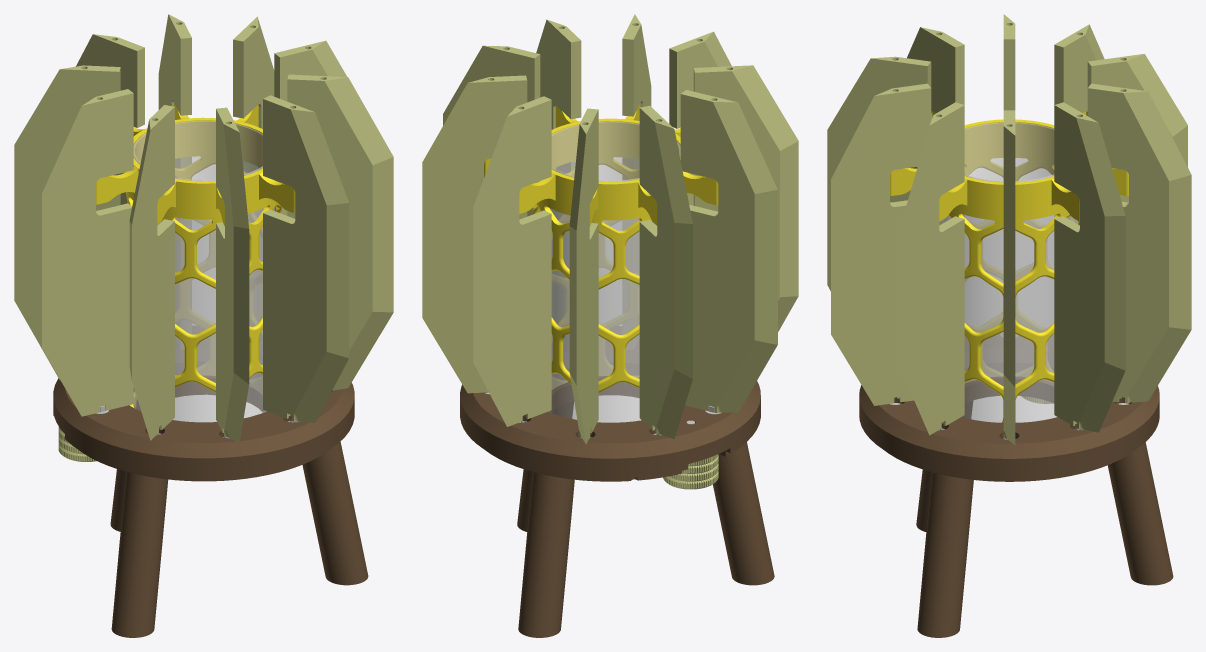
The model's file is lamp1.glb.
3 renders of one model, left to right at view 1: azimuth 30°, elevation 25°; view 2: azimuth 150°, elevation 25°; view 3: azimuth 270°, elevation 25°, orthographic.
Parts seen in each view (by area): view 1: Body309, Body302, Body1, Body1.001, center tube.001, Body303, Body268, Body288, Body308, Body301, Body305, Body306 (+2 smaller); view 2: Body309, Body306, Body305, Body1, Body308, Body1.001, center tube.001, Body288, Body307, Body268, Body303, Body302 (+3 smaller); view 3: Body302, Body306, Body305, Body303, Body1, Body288, center tube.001, Body1.001, Body301, Body304, Body307, Body268 (+2 smaller).
Part boxes in pixels (<box>): Body309: <box>42,89,133,416</box>; Body302: <box>263,95,349,422</box>; Body1: <box>53,326,354,478</box>; Body1.001: <box>79,376,368,637</box>; center tube.001: <box>96,103,295,407</box>; Body303: <box>287,74,393,390</box>; Body268: <box>129,105,174,440</box>; Body288: <box>133,120,275,422</box>; Body308: <box>14,65,120,379</box>; Body301: <box>216,107,249,442</box>; Body305: <box>233,16,274,321</box>; Body306: <box>158,14,191,348</box>; Body309: <box>680,90,777,413</box>; Body306: <box>473,96,551,426</box>; Body305: <box>422,75,527,393</box>; Body1: <box>460,326,760,478</box>; Body308: <box>639,105,692,438</box>; Body1.001: <box>485,376,774,637</box>; center tube.001: <box>484,104,718,392</box>; Body288: <box>539,121,680,422</box>; Body307: <box>569,108,598,444</box>; Body268: <box>693,65,798,331</box>; Body303: <box>536,19,581,349</box>; Body302: <box>622,14,651,349</box>; Body302: <box>831,83,931,405</box>; Body306: <box>1087,83,1191,403</box>; Body305: <box>1054,102,1125,432</box>; Body303: <box>902,102,964,435</box>; Body1: <box>859,334,1159,478</box>; Body288: <box>939,122,1078,422</box>; center tube.001: <box>890,111,1128,422</box>; Body1.001: <box>885,376,1173,637</box>; Body301: <box>827,56,931,291</box>; Body304: <box>1003,110,1015,445</box>; Body307: <box>1087,54,1187,202</box>; Body268: <box>907,27,964,224</box>.
Bounding box in the file's own units: 0.169 × 0.2467 × 0.1623.
